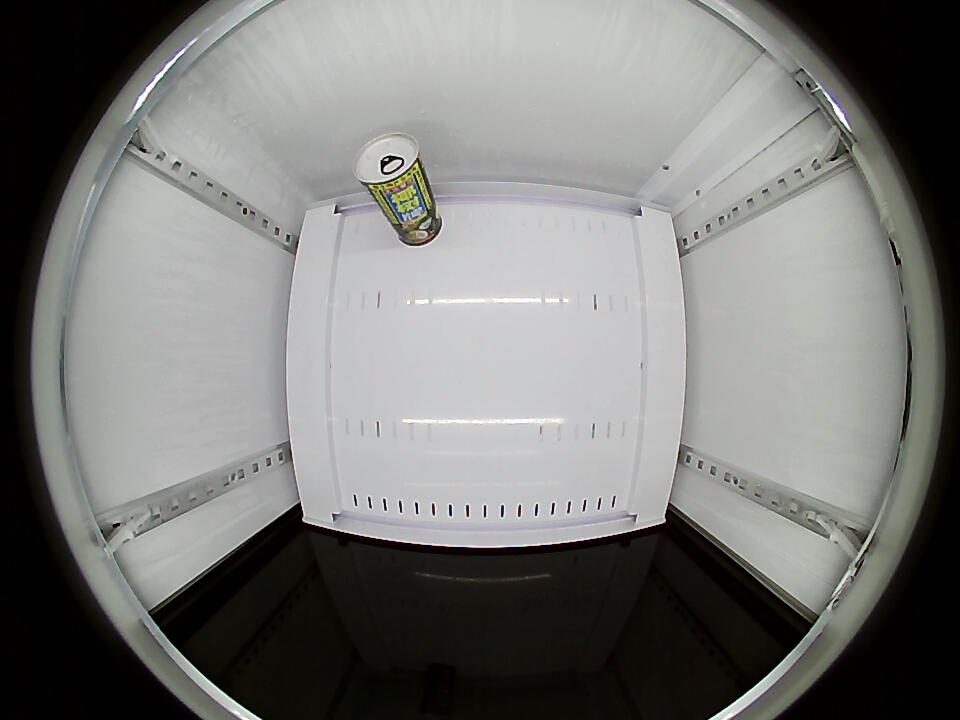yezhi: (353, 132, 426, 199)
